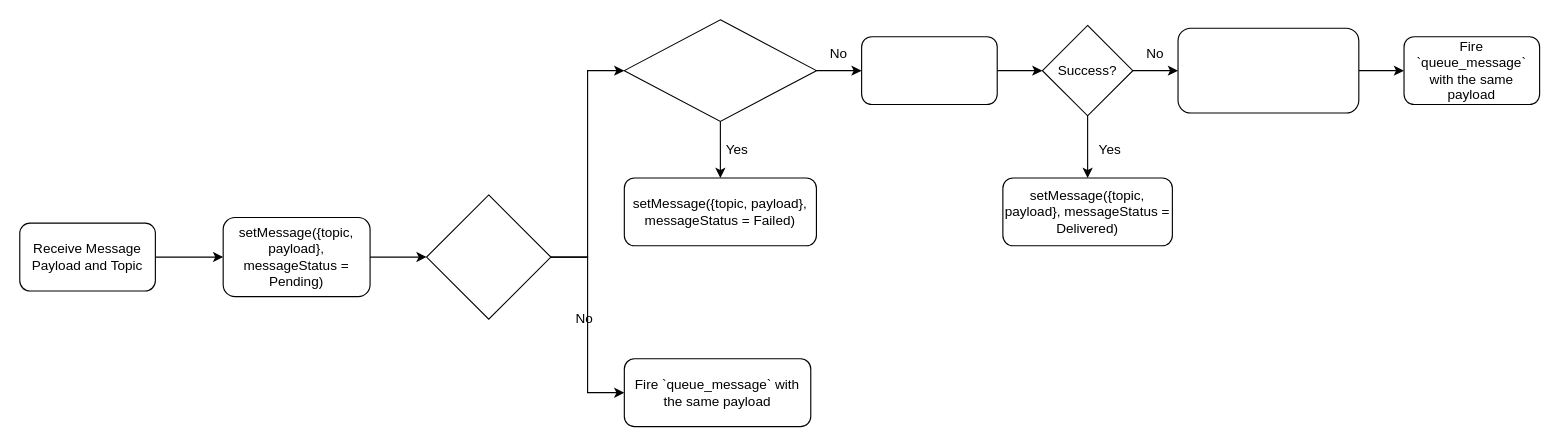
The diagram is 1559 pixels wide and 446 high, and some of its shapes have lost their labels. Here are the shapes that lost their labels. From the top down, the centre of each, then its label:
At [719,70]: "payload.retryAttempts >= max_retry_attempts".
At [928,70]: "attempt to send message".
At [1268,70]: "setMessage({topic, payload}, messageStatus = Pending, retryAttempts += 1 )".
At [488,256]: "relayer.connected?".
